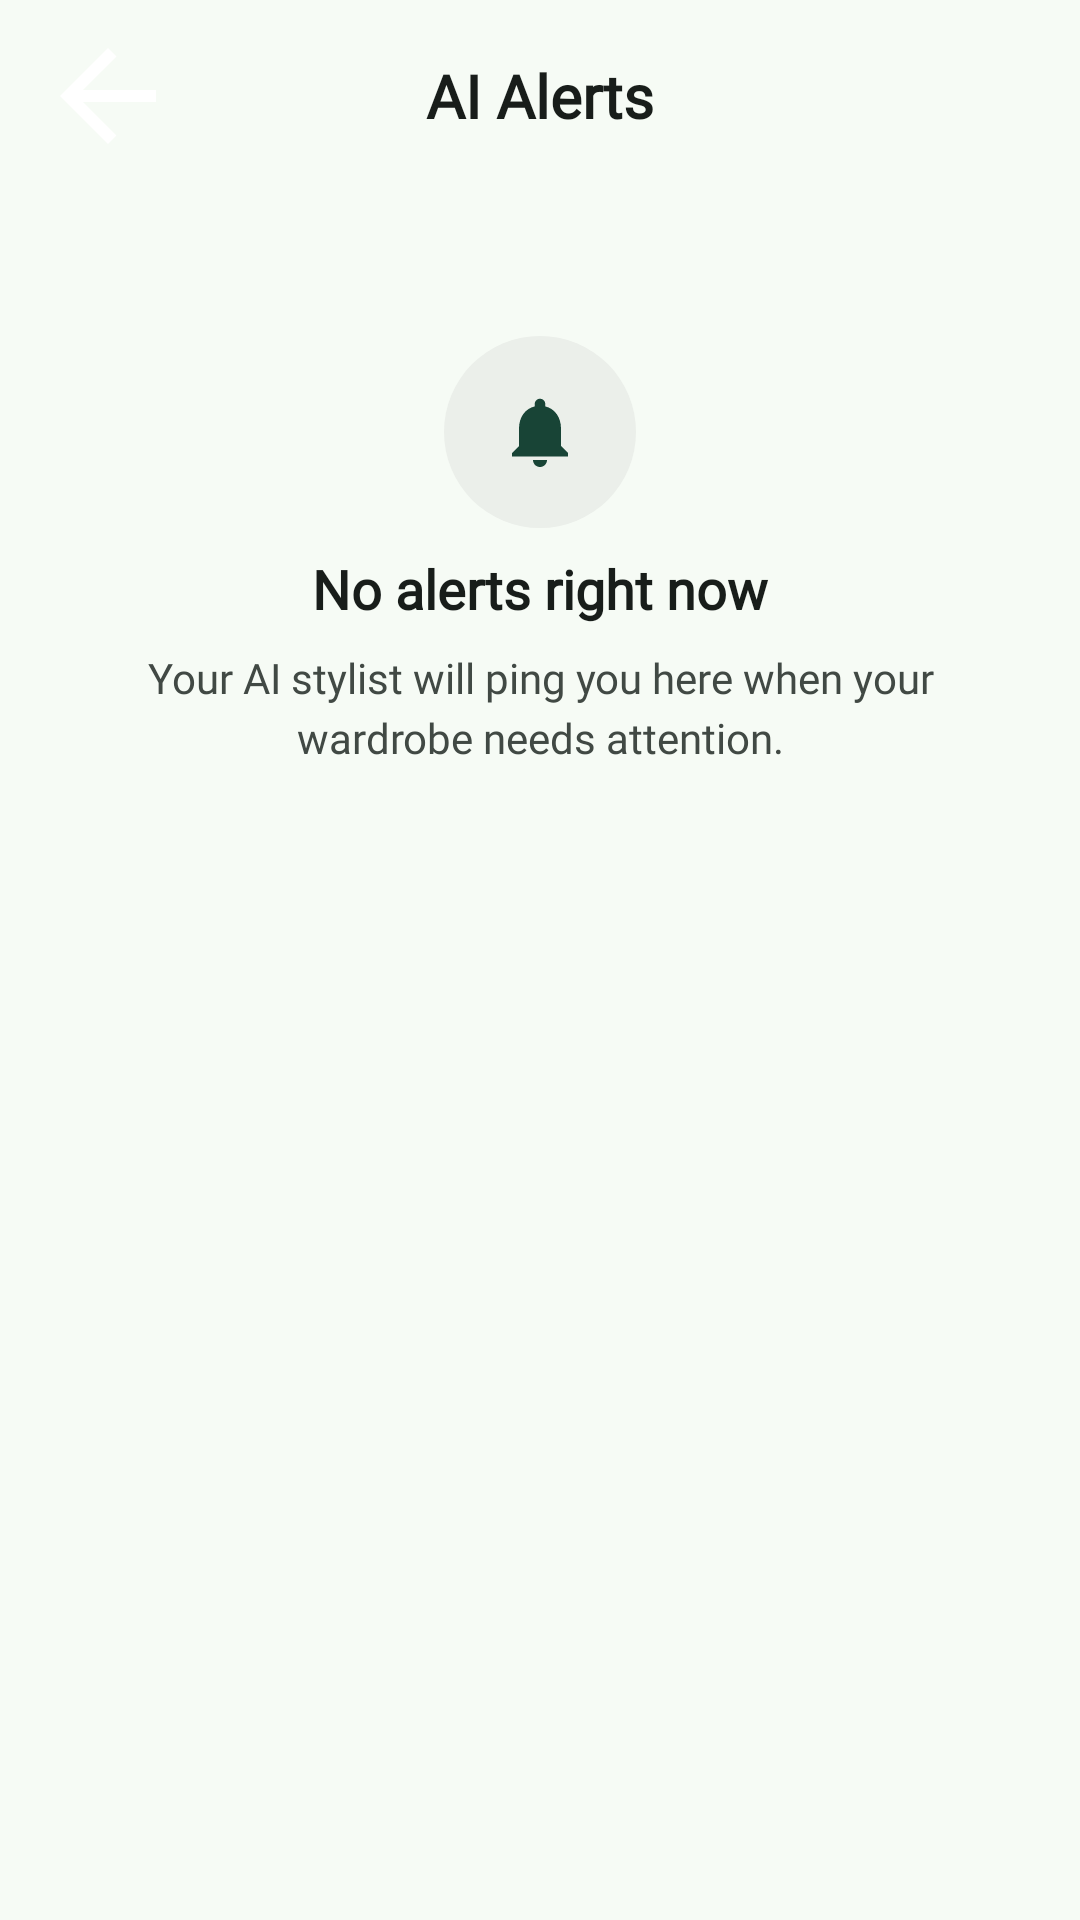

Named icons in this screenshot (1080px x 1920px) and their centers, (x,y):
notifications: (540,432)
